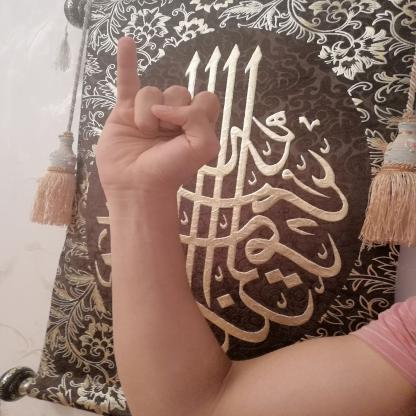MEEM: (76, 29, 240, 206)
